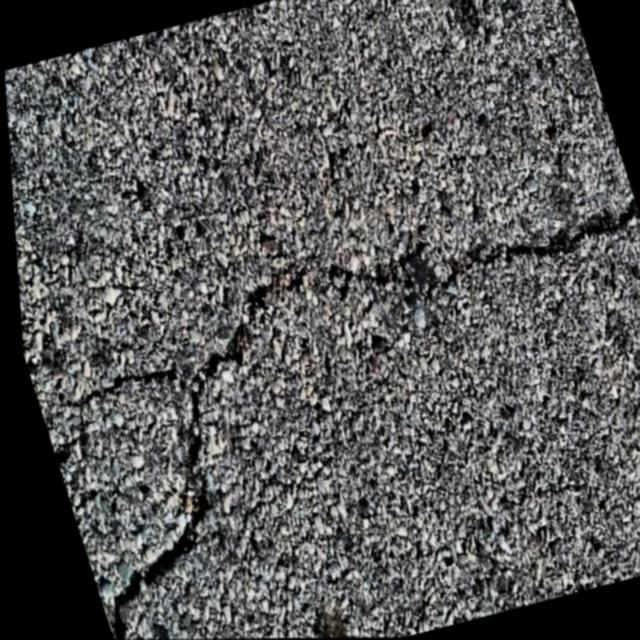cracks: (237, 203, 638, 316), (155, 351, 235, 568)
